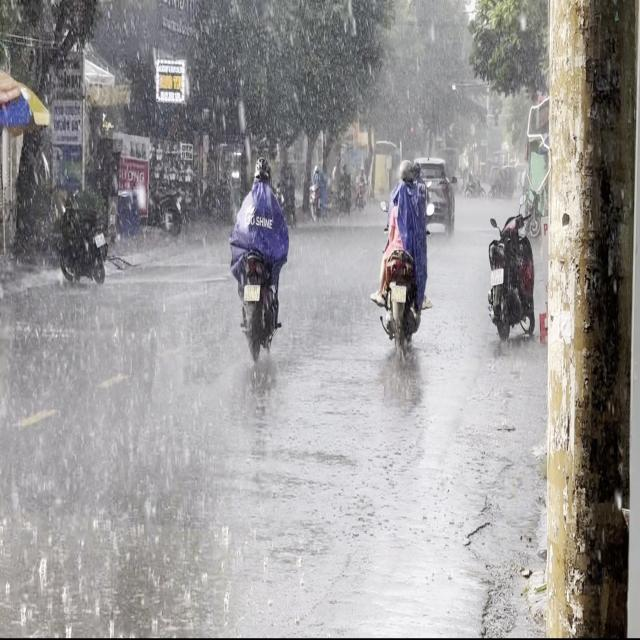helmet: (256, 155, 271, 184), (398, 157, 413, 182)
licenseplate: (228, 152, 290, 364), (372, 153, 432, 354)
nohelmet: (391, 284, 406, 302), (244, 283, 259, 300)
